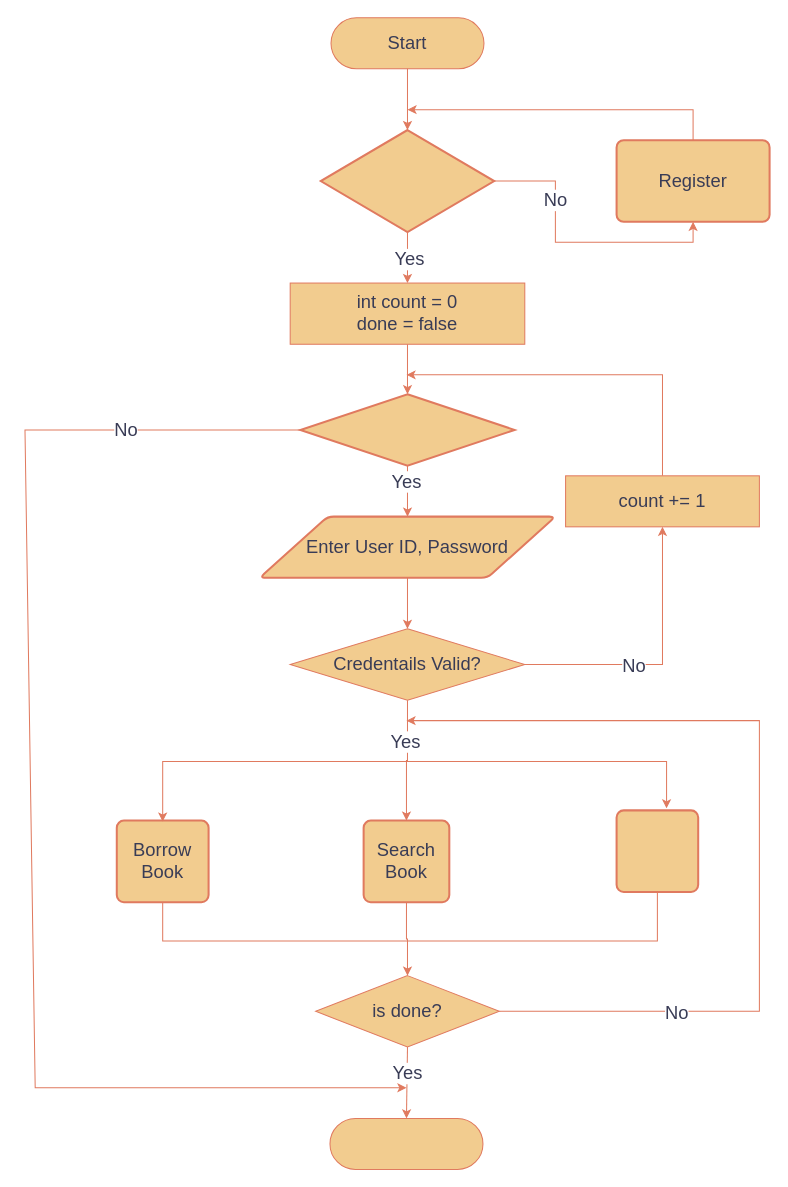
Image size: 788x1187. Some labels were removed from this diagram. The shapes that lost their labels are listed below. From the top down, each one's centre as x and y in pixels, then its label:
pixel 407 181: Is Registered?
pixel 407 429: count < 3?
pixel 657 850: Return Book
pixel 406 1143: Stop
